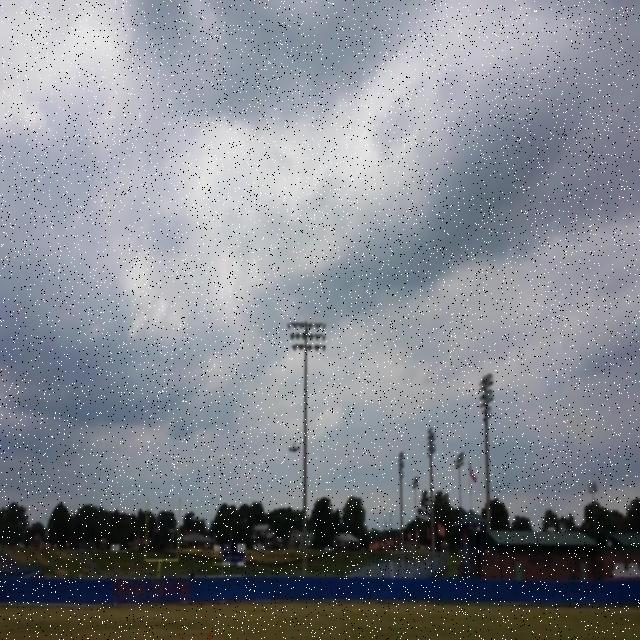UAV: (288, 443, 300, 453)
